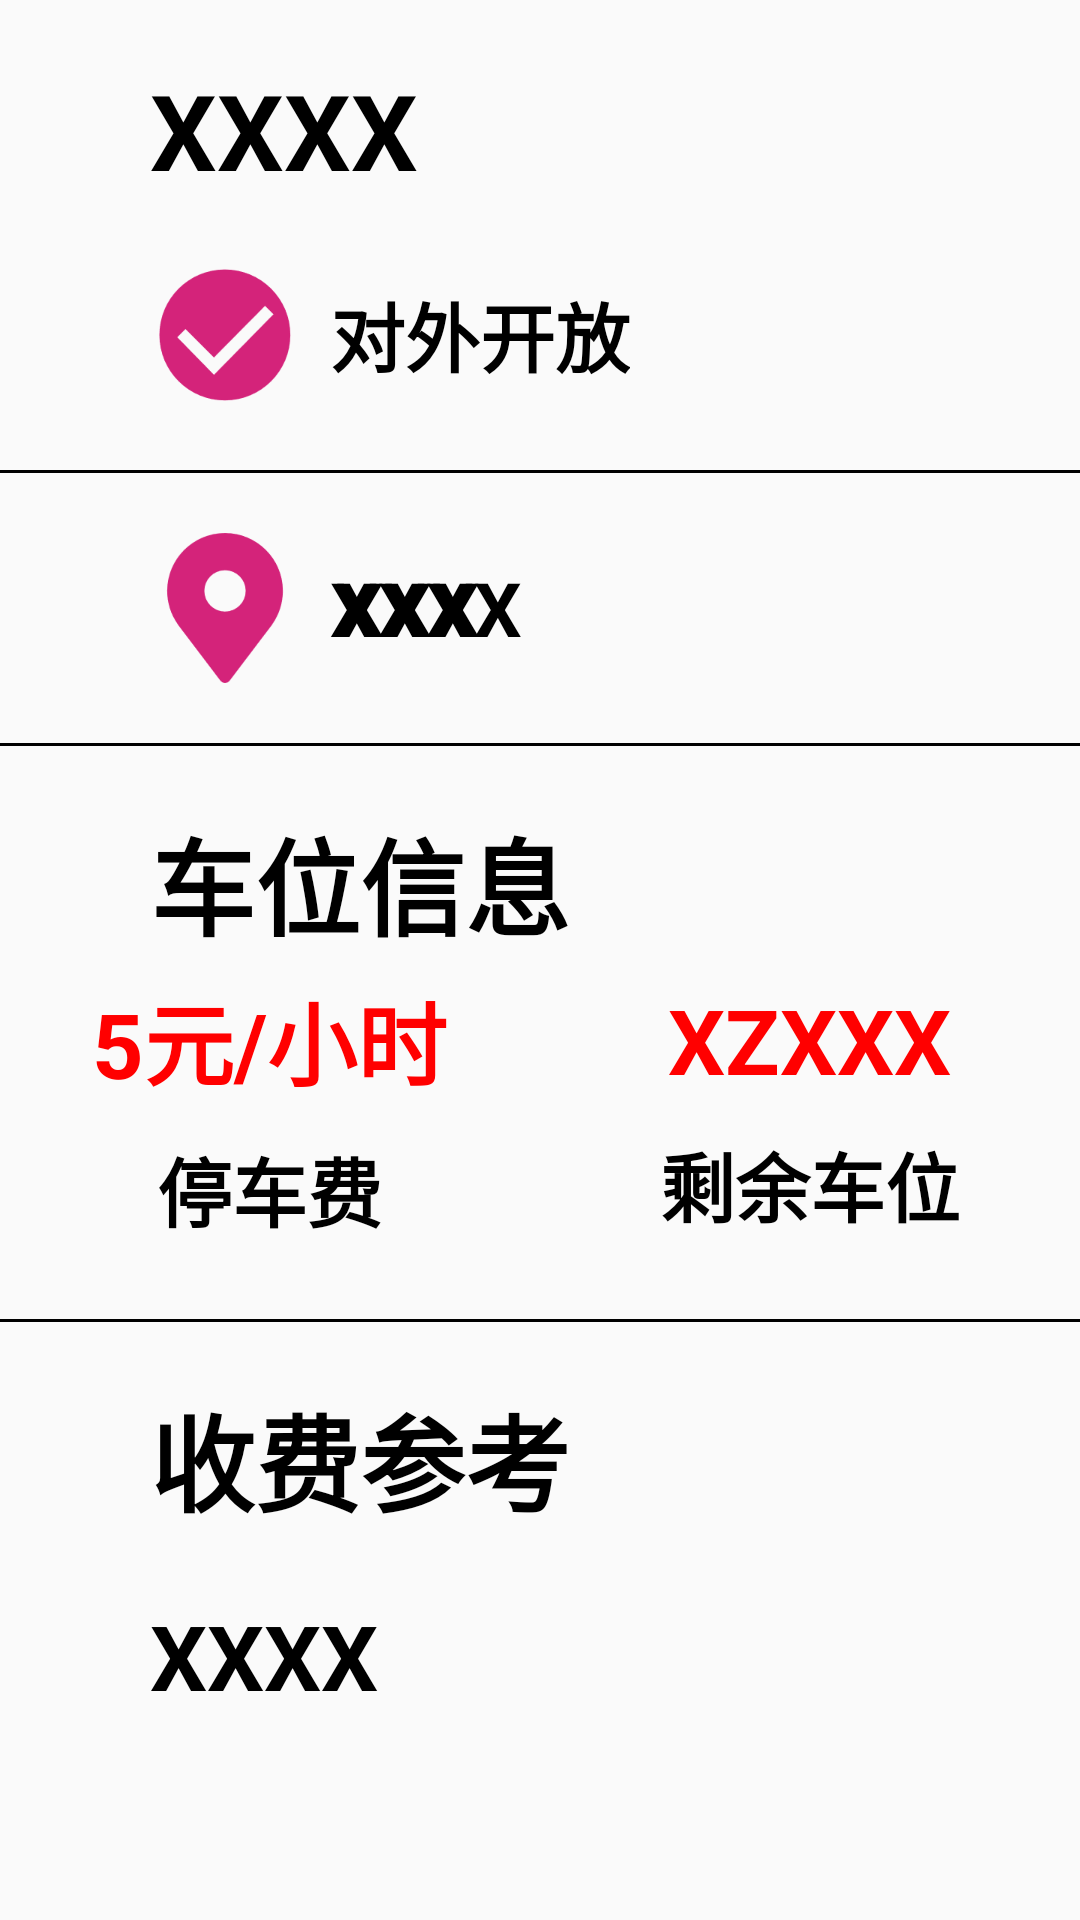

Named icons in this screenshot (1080*1920) and their bounding boxes, [x1=x1, y1=y1, x2=x2, y2=y2]:
location: [x1=167, y1=533, x2=283, y2=683]
status open: [x1=159, y1=269, x2=291, y2=401]
